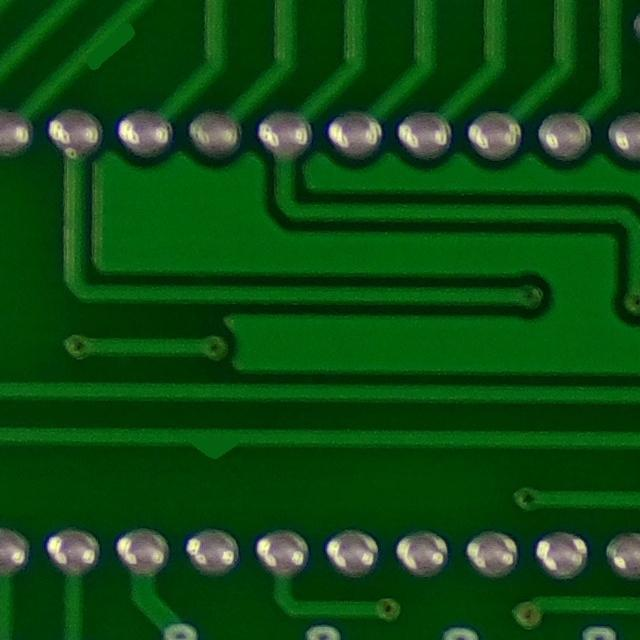spur: (178, 407, 254, 484), (71, 13, 148, 80)
